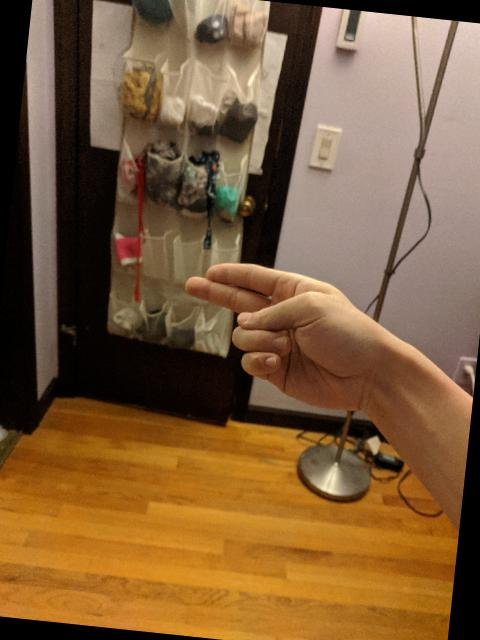H: (166, 252, 381, 423)
